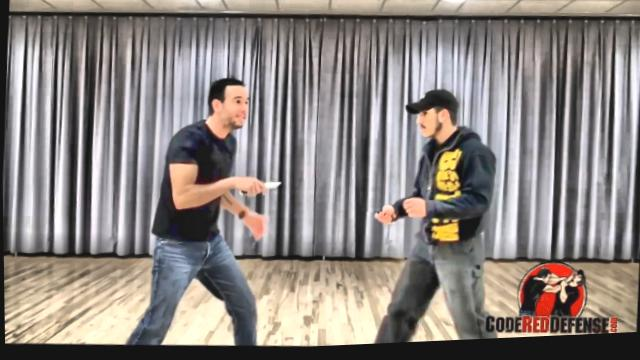knife: (235, 175, 283, 200)
